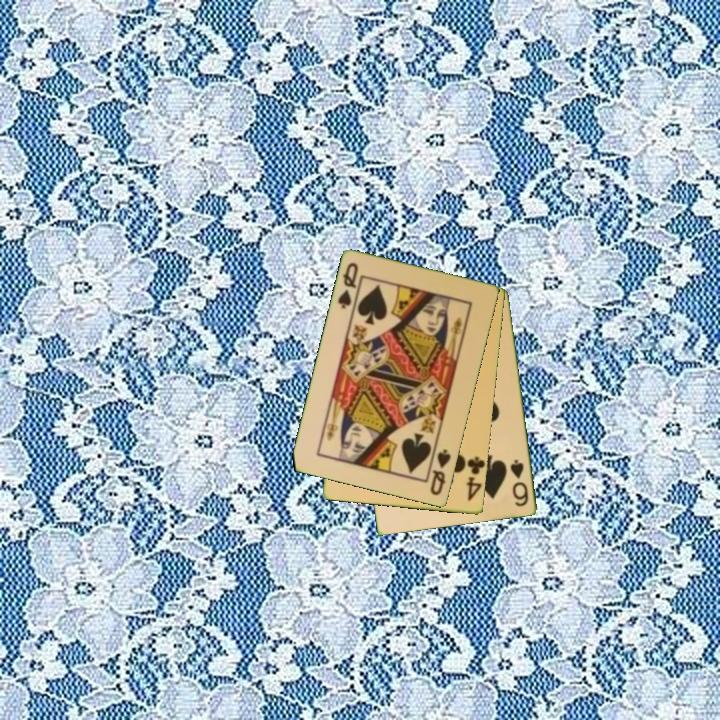4c: (463, 453, 487, 504)
6s: (507, 456, 532, 509)
Qs: (334, 259, 364, 314), (427, 446, 454, 499)
